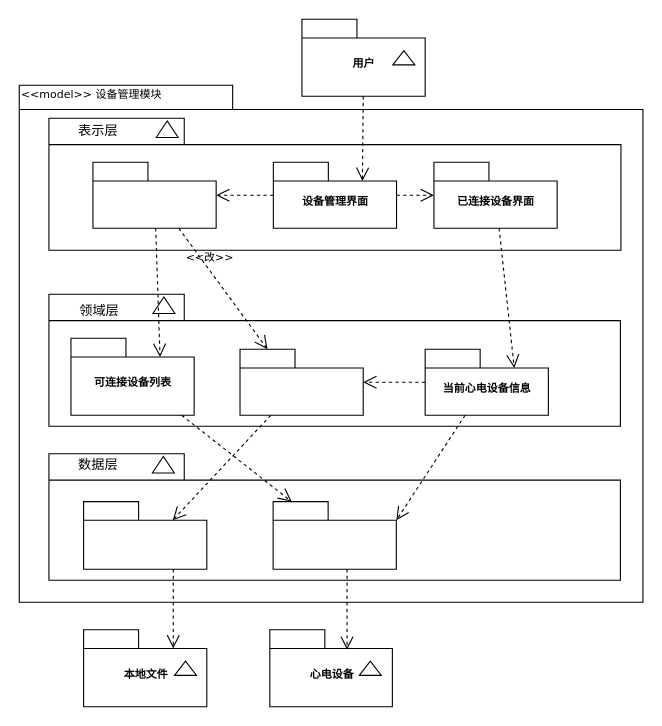
Image size: 662x726. Some labels were removed from this diagram. The shapes that lost their labels are listed below. From the top down, each one's box as (x1, y1, x2, y2) in pixels, then its label:
(92, 161, 216, 228): 连接新设备界面
(239, 348, 363, 415): 当前心电设备ID
(82, 501, 207, 569): 数据库模块
(272, 501, 396, 569): 心电设备模块
